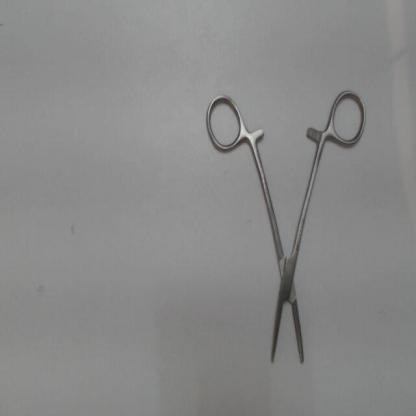Mayo Needle Holder: (201, 78, 370, 370)
